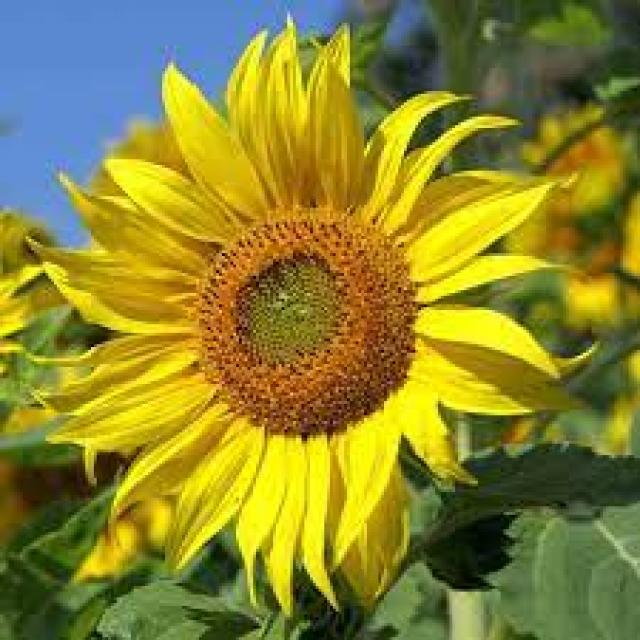sunflower: (24, 9, 613, 636), (0, 183, 65, 337)
